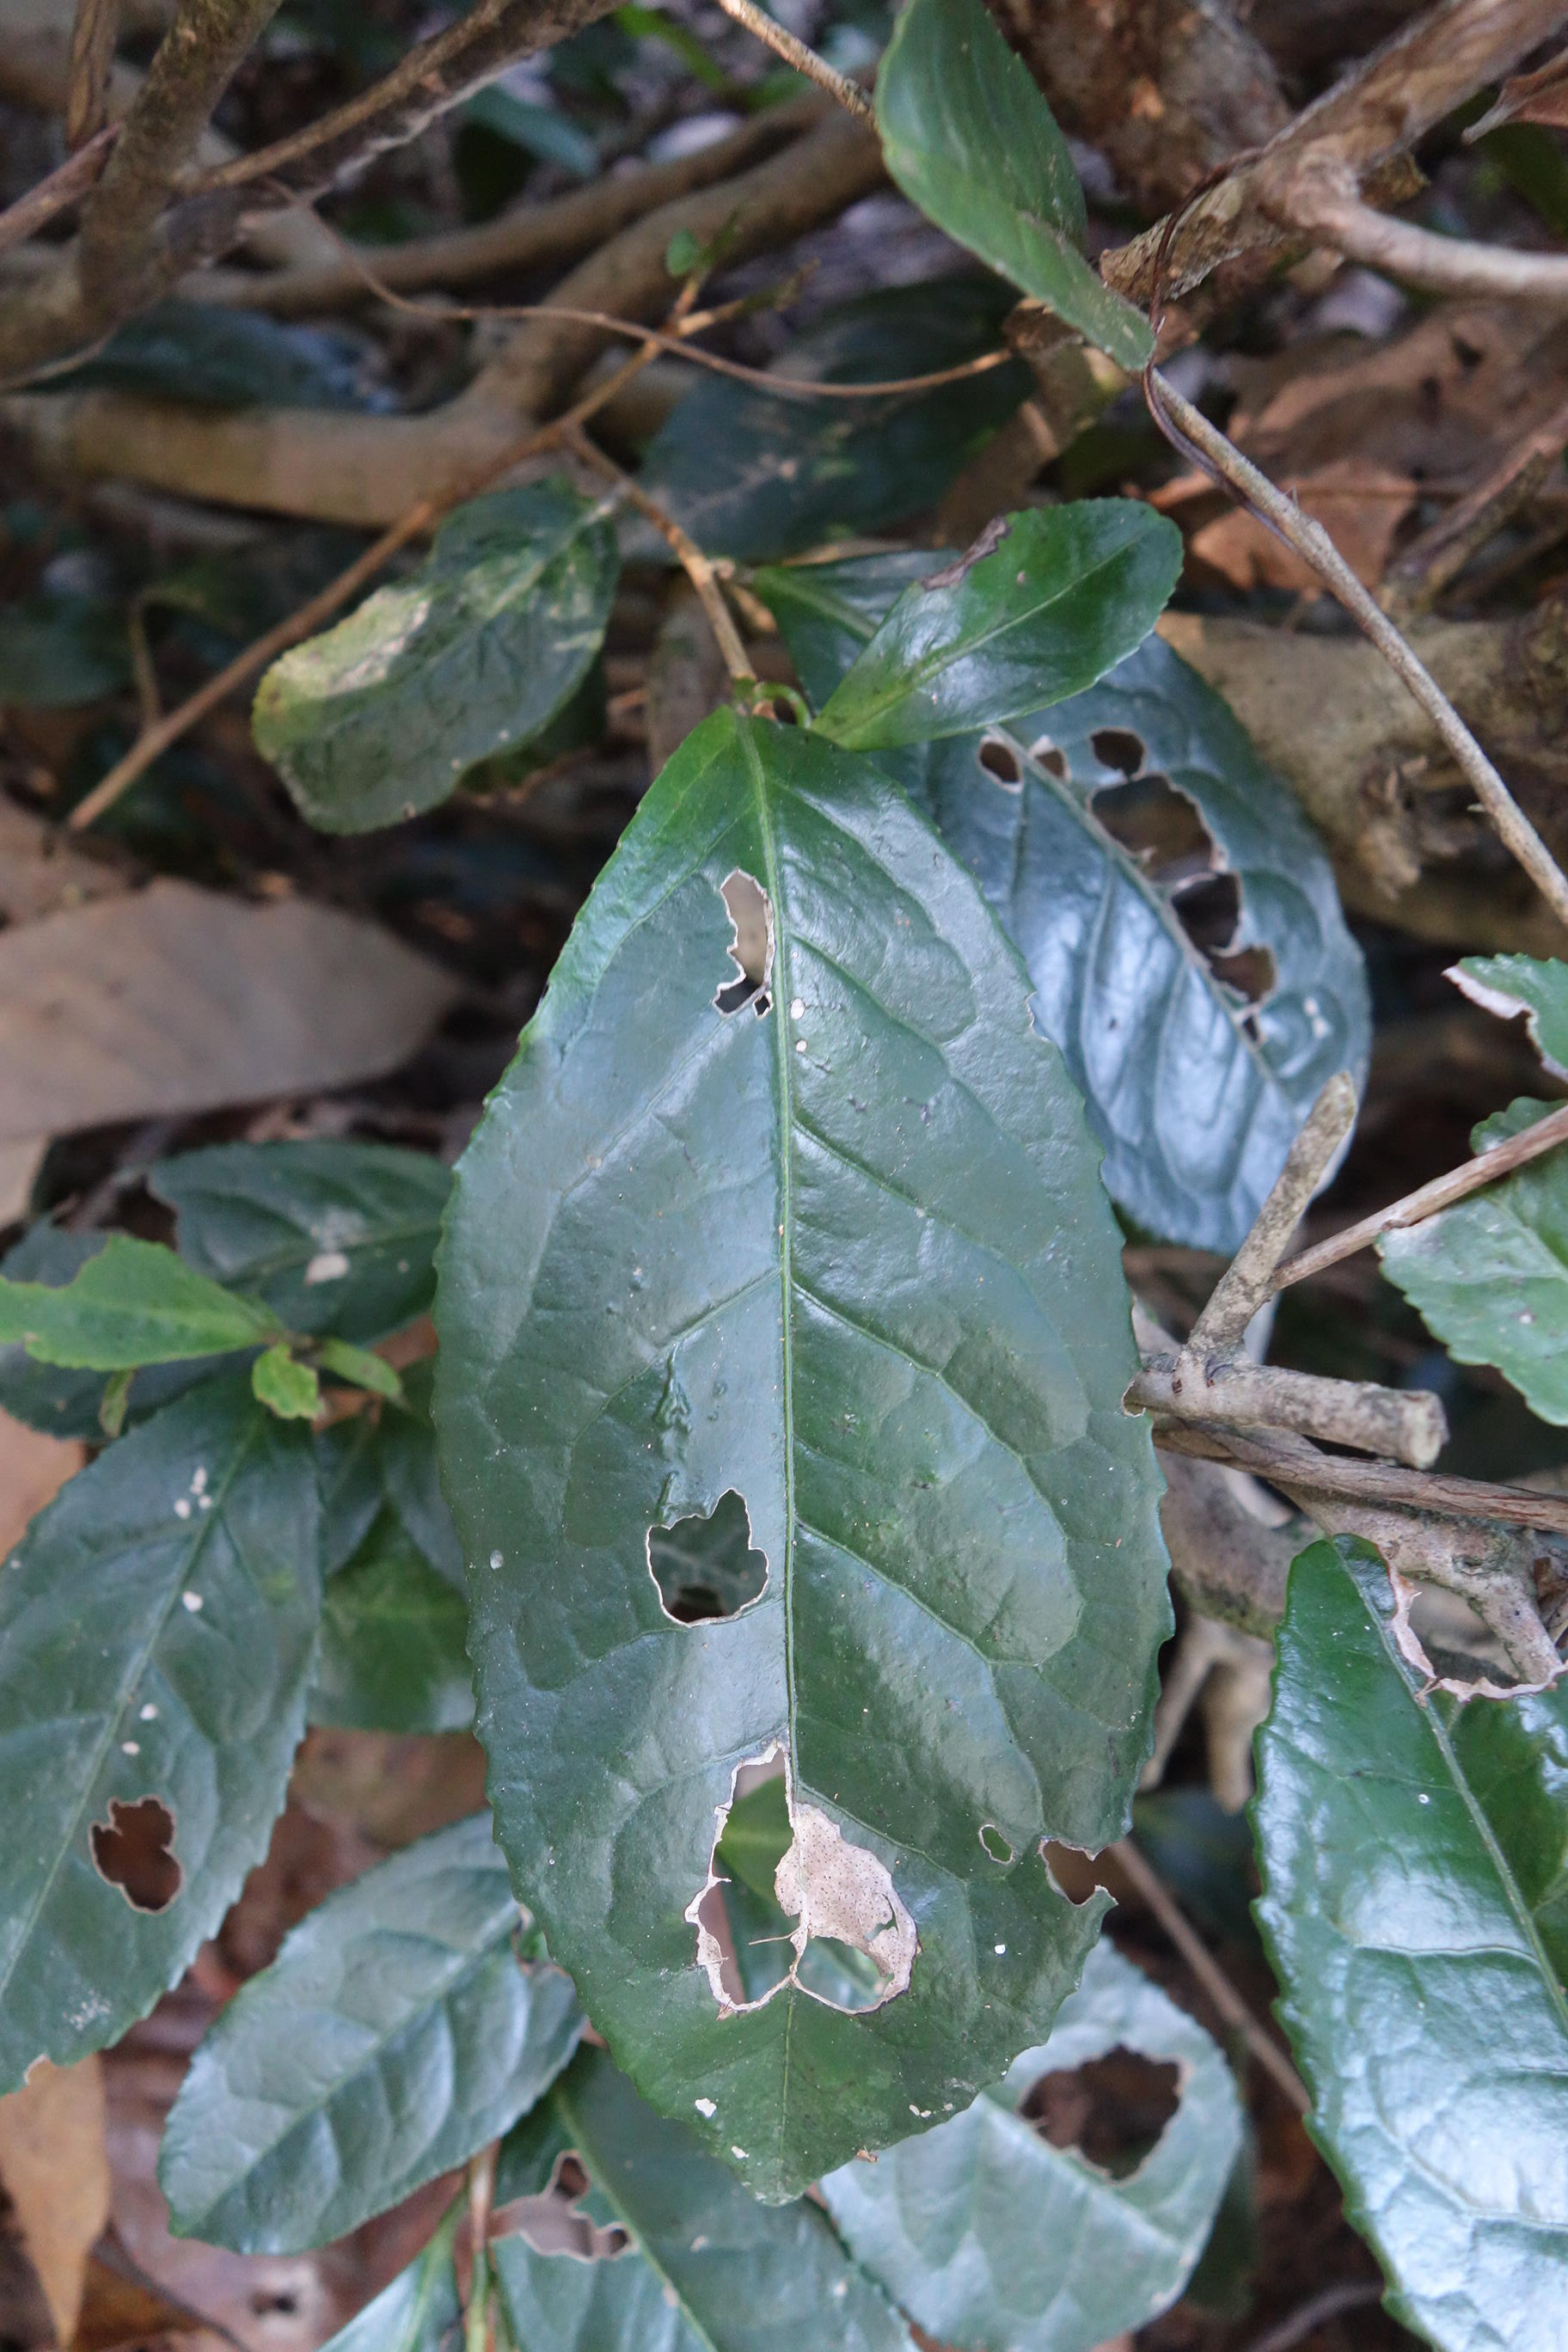chihuo_high: (425, 714, 1172, 2212), (919, 623, 1372, 1244)
chihuo_low: (1253, 1526, 1568, 2352), (7, 1370, 327, 2100), (5, 1225, 261, 1370)
tanju_low: (805, 495, 1183, 749)
